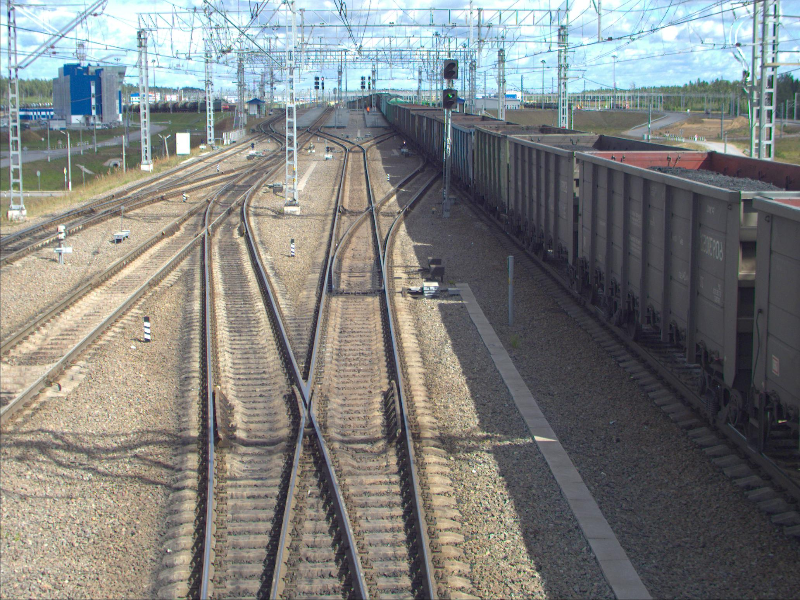left: (325, 202, 387, 291)
